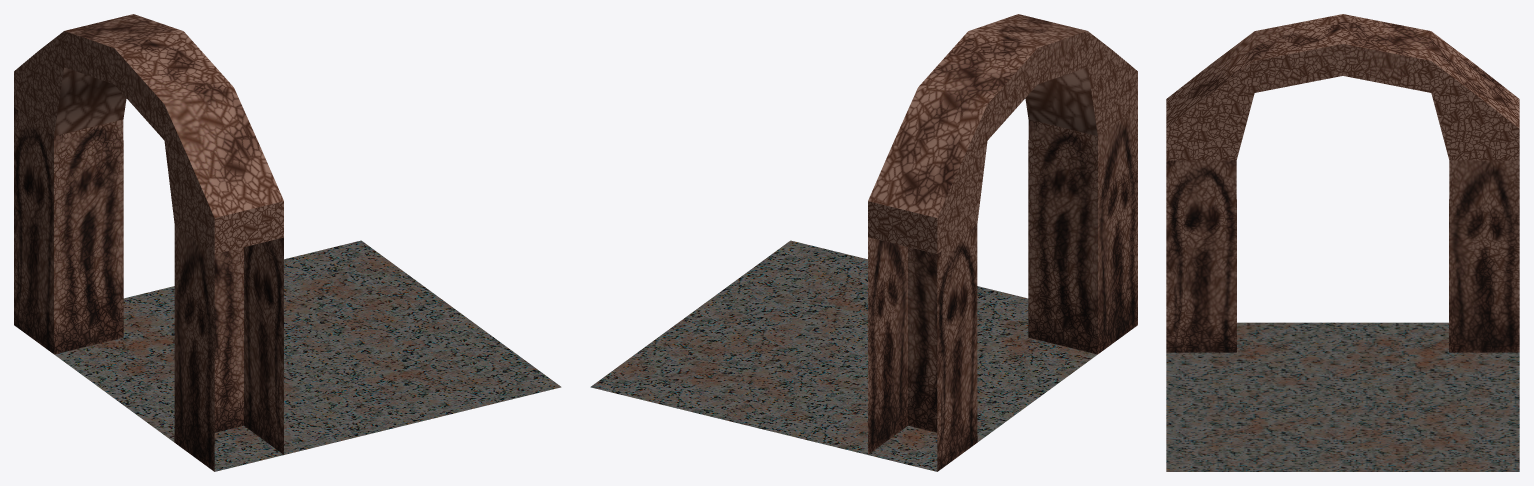
The model's file is Gate.fbx.
The picture shows the model from 3 angles, left to right: view 1: azimuth 30°, elevation 25°; view 2: azimuth 150°, elevation 25°; view 3: azimuth 270°, elevation 25°; orthographic projection. The views are drawn at different scales.
Visible parts, largest first — view 1: Gate; view 2: Gate; view 3: Gate.
Boxes of the visible parts, box(x1,y1,x2,y2) form: Gate: box(14, 14, 561, 471); Gate: box(590, 14, 1137, 471); Gate: box(1166, 14, 1519, 471).
Bounding box in the file's own units: 100 × 96.41 × 100.
1 material, 1 textured.
